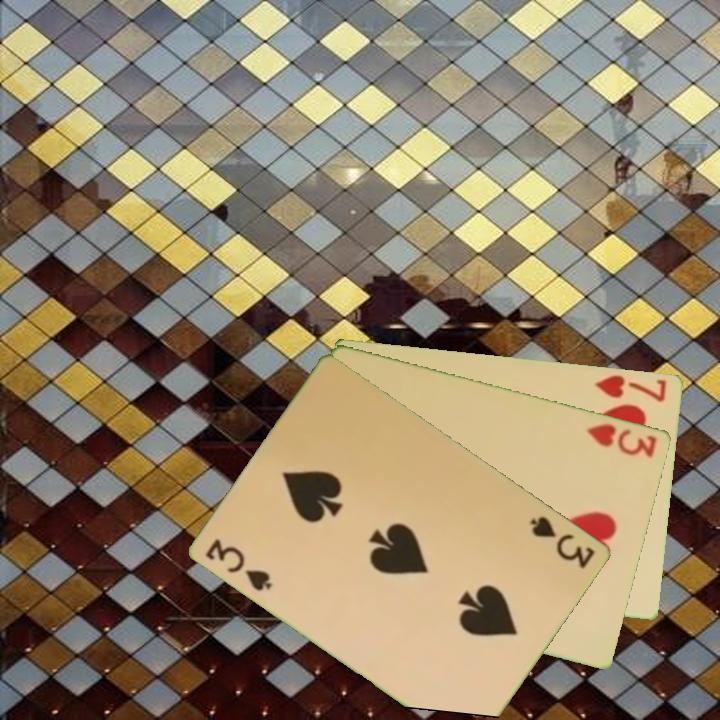3h: (583, 420, 660, 460)
3s: (202, 534, 276, 595), (527, 512, 599, 572)
7h: (591, 371, 669, 405)
